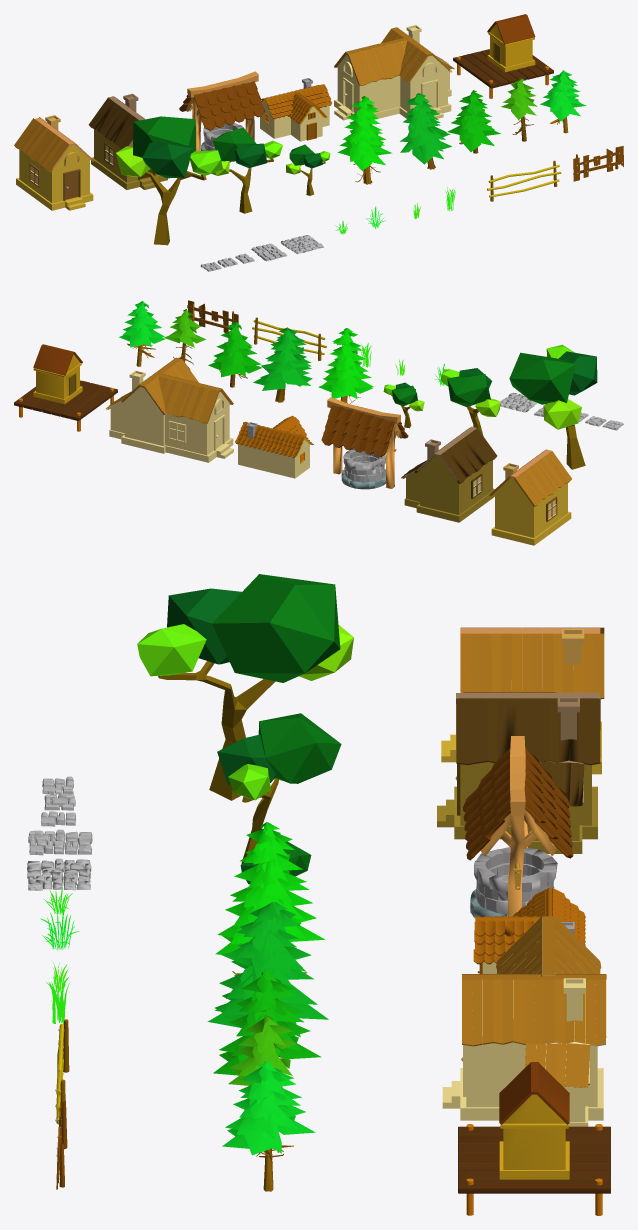
The model's file is asset.glb.
The picture shows the model from 3 angles, top to bottom: view 1: azimuth 30°, elevation 25°; view 2: azimuth 150°, elevation 25°; view 3: azimuth 270°, elevation 25°; orthographic projection. The views are drawn at different scales.
Parts seen in each view (by area): view 1: Rumah_3, Pohon_2, Rumah_1, Rumah_4, Sumur, Rumah_2, Rumah_5, Pohon_3, Pinus_4, Pinus_5, Pinus_2, Pinus_1 (+6 smaller); view 2: Rumah_3, Rumah_2, Rumah_1, Sumur, Pohon_2, Rumah_4, Rumah_5, Pinus_5, Pinus_4, Pohon_3, Pinus_2, Pinus_1 (+5 smaller); view 3: Rumah_3, Pohon_2, Rumah_2, Rumah_4, Sumur, Rumah_1, Pohon_3, Pinus_5, Pinus_4, Pinus_1, Rumah_5, Pinus_2 (+4 smaller).
Boxes of the visible parts, left/top/right/bottom form: Rumah_3: left=334, top=25, right=454, bottom=120; Pohon_2: left=116, top=116, right=223, bottom=245; Rumah_1: left=14, top=115, right=94, bottom=210; Rumah_4: left=453, top=14, right=553, bottom=98; Sumur: left=179, top=71, right=264, bottom=151; Rumah_2: left=88, top=93, right=167, bottom=189; Rumah_5: left=260, top=78, right=331, bottom=141; Pohon_3: left=212, top=127, right=282, bottom=213; Pinus_4: left=337, top=96, right=392, bottom=184; Pinus_5: left=400, top=93, right=451, bottom=169; Pinus_2: left=447, top=90, right=500, bottom=153; Pinus_1: left=540, top=70, right=586, bottom=133; Rumah_3: left=106, top=357, right=233, bottom=462; Rumah_2: left=401, top=426, right=497, bottom=522; Rumah_1: left=489, top=449, right=571, bottom=545; Sumur: left=321, top=397, right=408, bottom=489; Pohon_2: left=509, top=344, right=597, bottom=469; Rumah_4: left=14, top=344, right=117, bottom=431; Rumah_5: left=235, top=415, right=313, bottom=478; Pinus_5: left=253, top=327, right=312, bottom=402; Pinus_4: left=318, top=328, right=373, bottom=404; Pohon_3: left=440, top=368, right=500, bottom=435; Pinus_2: left=208, top=321, right=262, bottom=387; Pinus_1: left=119, top=301, right=165, bottom=366; Rumah_3: left=442, top=916, right=606, bottom=1126; Pohon_2: left=137, top=574, right=353, bottom=800; Rumah_2: left=437, top=692, right=600, bottom=853; Rumah_4: left=458, top=1062, right=610, bottom=1215; Sumur: left=463, top=736, right=573, bottom=917; Rumah_1: left=441, top=627, right=604, bottom=774; Pohon_3: left=217, top=713, right=341, bottom=863; Pinus_5: left=207, top=901, right=328, bottom=1037; Pinus_4: left=215, top=822, right=324, bottom=974; Pinus_1: left=222, top=1061, right=315, bottom=1191; Rumah_5: left=473, top=887, right=585, bottom=973; Pinus_2: left=213, top=968, right=321, bottom=1075.
Size of what is drawn, in the model's own units: 61.23 by 12.93 by 30.72.
